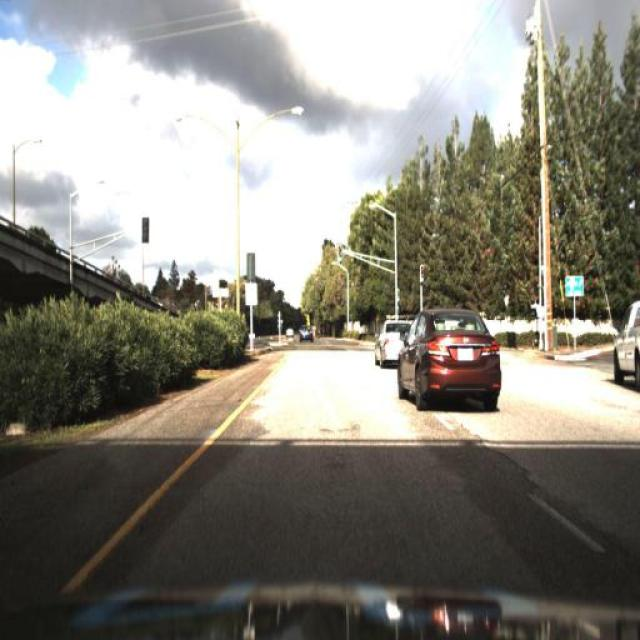car: (397, 306, 497, 406), (611, 298, 640, 393), (371, 316, 410, 370), (296, 320, 316, 346)
trafficLight-GreenLeft: (332, 234, 344, 277), (413, 261, 428, 288), (336, 240, 342, 265)
